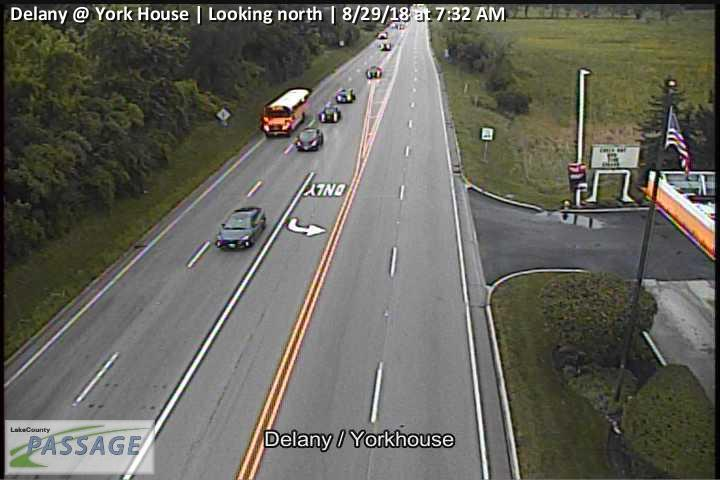Bus: (261, 88, 311, 138)
SUV: (296, 128, 324, 151)
Sedan: (319, 106, 341, 122), (336, 89, 355, 103), (366, 67, 381, 78)
Truck: (215, 207, 265, 249)
